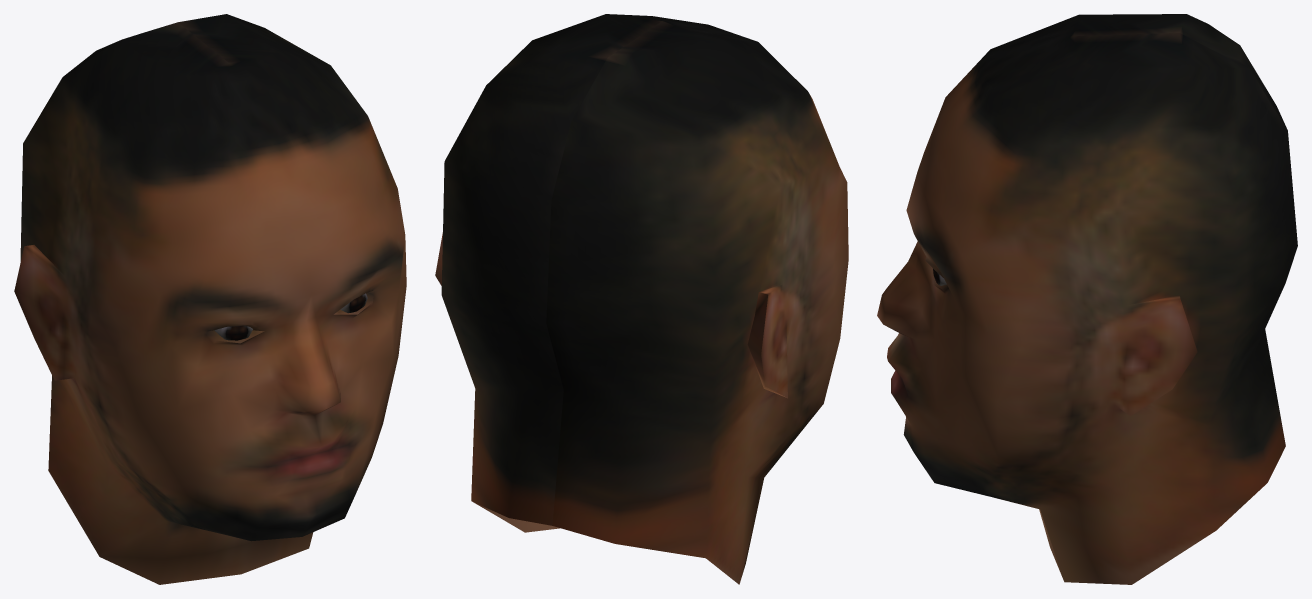
File: head.fbx
3 renders of one model, left to right at view 1: azimuth 30°, elevation 25°; view 2: azimuth 150°, elevation 25°; view 3: azimuth 270°, elevation 25°, orthographic. The views are drawn at different scales.
Visible parts, largest first — view 1: head; view 2: head; view 3: head.
Part boxes in pixels (x1,y1,x2,y2): head: [14, 14, 406, 584]; head: [435, 14, 848, 584]; head: [877, 14, 1297, 584].
Bounding box in the file's own units: 0.6265 × 0.9785 × 0.7252.
1 material, 1 textured.
